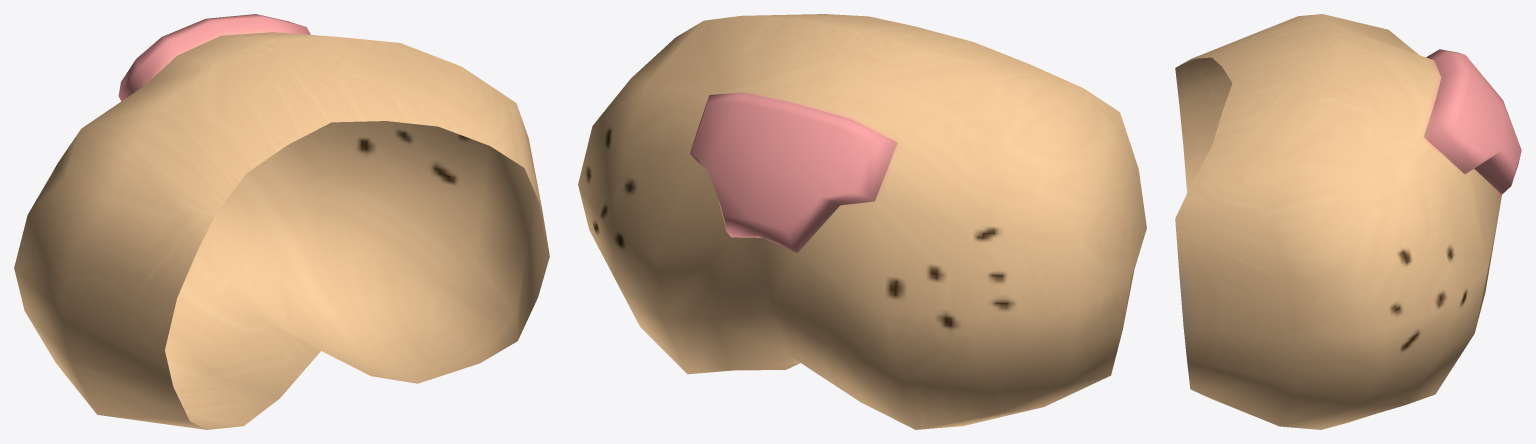
Rendered from Props_CatNose.fbx.
The picture shows the model from 3 angles, left to right: view 1: azimuth 30°, elevation 25°; view 2: azimuth 150°, elevation 25°; view 3: azimuth 270°, elevation 25°; orthographic projection. The views are drawn at different scales.
Visible parts, largest first — view 1: CatNose; view 2: CatNose; view 3: CatNose.
Boxes of the visible parts, x1,y1,x2,y2 form: CatNose: (14,14,549,429); CatNose: (578,14,1146,429); CatNose: (1175,14,1521,429).
Bounding box in the file's own units: 4.04 × 2.81 × 2.7.
